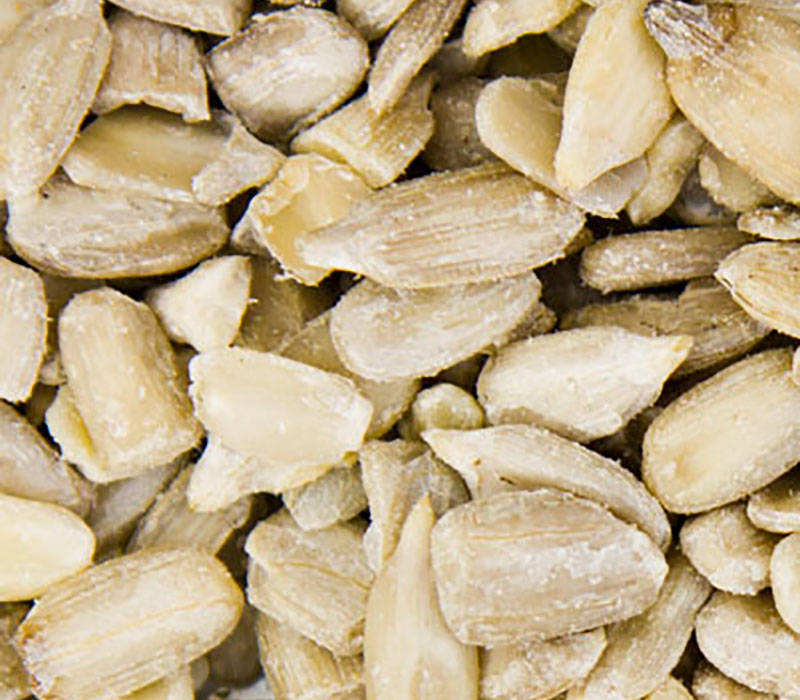seed: (2, 1, 794, 700)
